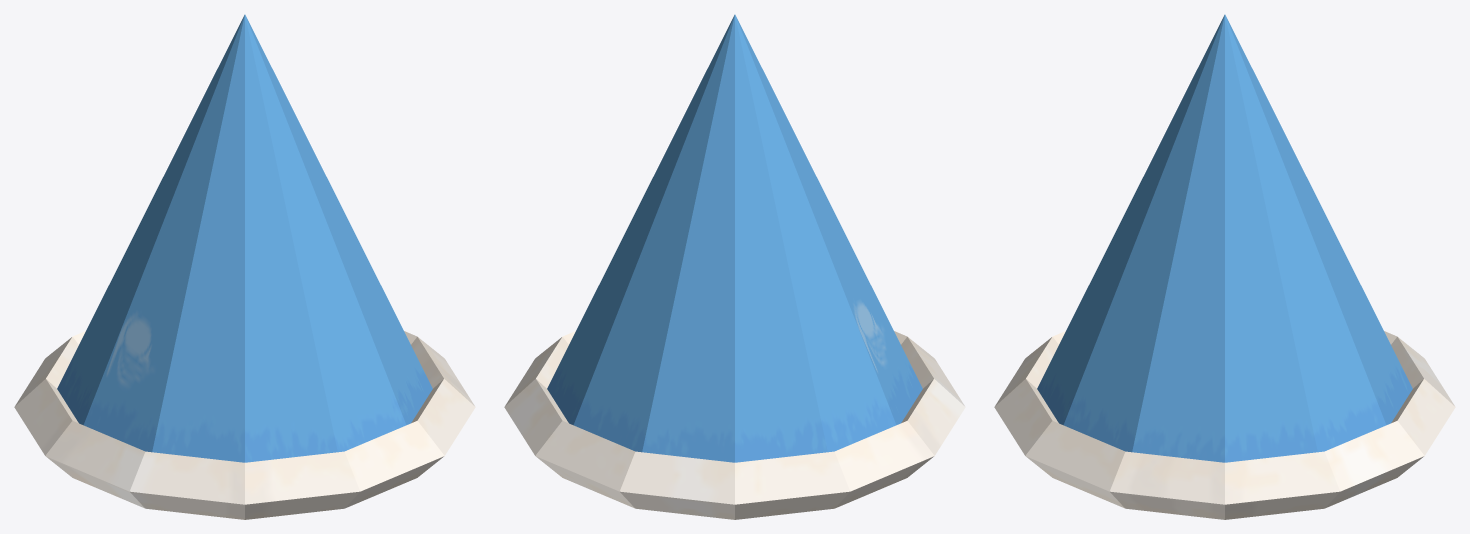
File: partyhat.fbx
The picture shows the model from 3 angles, left to right: view 1: azimuth 30°, elevation 25°; view 2: azimuth 150°, elevation 25°; view 3: azimuth 270°, elevation 25°; orthographic projection.
Visible parts, largest first — view 1: Cone001, Torus001; view 2: Cone001, Torus001; view 3: Cone001, Torus001.
Part boxes in pixels (box(x1,y1,x2,y2)): Cone001: box(57, 14, 432, 462); Torus001: box(14, 331, 475, 519); Cone001: box(547, 14, 922, 462); Torus001: box(504, 331, 965, 519); Cone001: box(1037, 14, 1412, 462); Torus001: box(994, 331, 1455, 519).
Bounding box in the file's own units: 0.234 × 0.236 × 0.234.
Materials: 1 (1 with a texture image).
